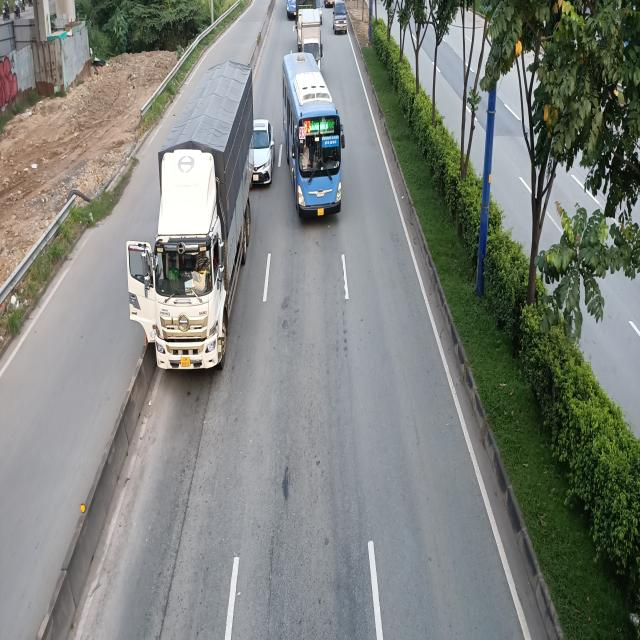car: (254, 119, 274, 185), (332, 1, 348, 34)
coach: (283, 54, 345, 219)
truck: (141, 63, 255, 373), (301, 9, 322, 56)
